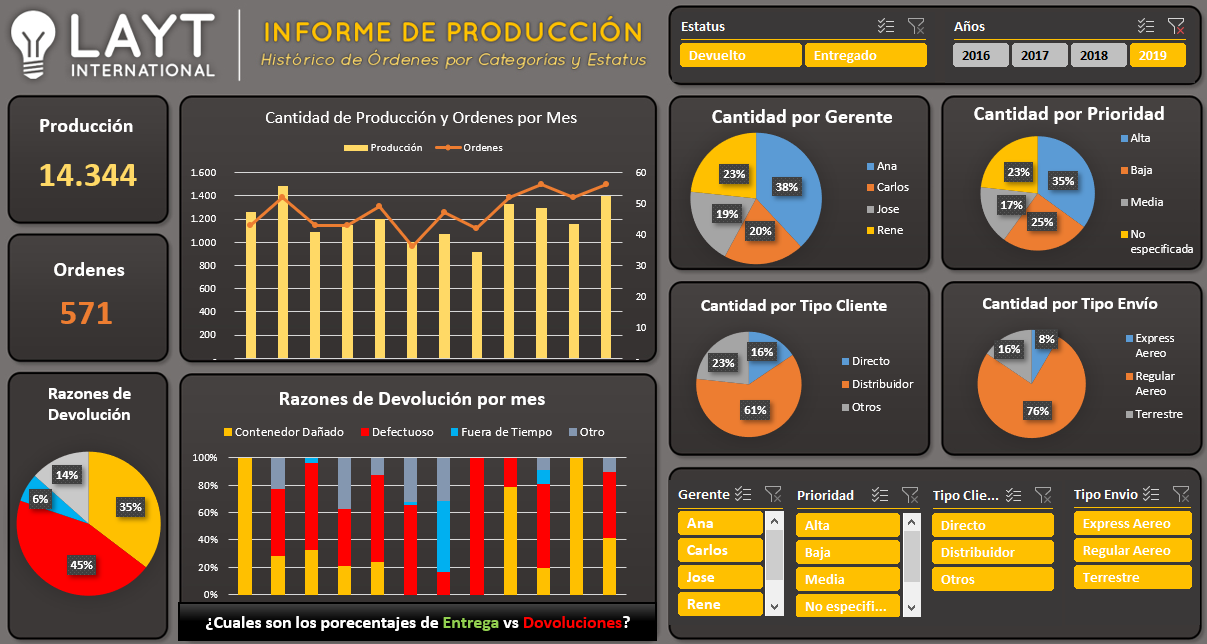

Layout of this report page (visuals, bound fields, positions):
{"tool":"powerbi","page":{"name":"Informe 2","canvas":[1280,720],"ordinal":3},"visuals":[{"type":"card","title":"Producción","fields":{"Values":["Sum(TablaTransacciones.Cantidad)"]},"box":[15.8,122.6,162,105.8],"z":0},{"type":"slicer","title":"Año","fields":{"Values":["TablaTransacciones.Fecha.Variación.Jerarquía de fechas.Año"]},"box":[982.1,14.6,298.1,83.2],"z":1000},{"type":"slicer","title":"Estatus","fields":{"Values":["TablaEstatus.Estatus"]},"box":[715.5,14.6,266.6,83.2],"z":2000},{"type":"card","title":"Ordenes","fields":{"Values":["CountNonNull(TablaTransacciones.Cantidad)"]},"box":[15.8,275.6,162,111.4],"z":3000},{"type":"lineStackedColumnComboChart","title":"Cantidad de Producción y Ordenes por Mes","fields":{"Category":["TablaTransacciones.Fecha.Variación.Jerarquía de fechas.Mes"],"Y":["Sum(TablaTransacciones.Cantidad)"],"Y2":["CountNonNull(TablaTransacciones.Cantidad)"]},"box":[193.5,114.8,497.2,283.5],"z":4000},{"type":"hundredPercentStackedColumnChart","title":"Razones de Devoluciones por Mes","fields":{"Category":["TablaTransacciones.Fecha.Variación.Jerarquía de fechas.Año","TablaTransacciones.Fecha.Variación.Jerarquía de fechas.Mes"],"Y":["Sum(TablaTransacciones.Cantidad)"],"Series":["TablaEstatus.Razon"]},"box":[193.5,415.1,473.6,262.1],"z":5000},{"type":"pieChart","title":"Cantidad por Gerente","fields":{"Category":["TablaTransacciones.Gerente"],"Y":["Sum(TablaTransacciones.Cantidad)"]},"box":[707.6,114.8,275.6,183.4],"z":6000},{"type":"pieChart","title":"Cantidad por Tipo Cliente","fields":{"Y":["Sum(TablaTransacciones.Cantidad)"],"Category":["TablaTransacciones.Tipo Cliente"]},"box":[707.6,315,275.6,205.9],"z":7000},{"type":"pieChart","title":"Cantidad por Prioridad","fields":{"Y":["Sum(TablaTransacciones.Cantidad)"],"Category":["TablaTransacciones.Prioridad"]},"box":[993.4,114.8,275.6,192.4],"z":8000},{"type":"pieChart","title":"Cantidad por Tipo Envío","fields":{"Y":["Sum(TablaTransacciones.Cantidad)"],"Category":["TablaTransacciones.Tipo Envio"]},"box":[993.4,315,275.6,195.8],"z":9000},{"type":"slicer","fields":{"Values":["TablaTransacciones.Gerente"]},"box":[712.1,531,109.1,156.4],"z":10000},{"type":"slicer","fields":{"Values":["TablaTransacciones.Prioridad"]},"box":[823.5,531,158.6,156.4],"z":11000},{"type":"slicer","fields":{"Values":["TablaTransacciones.Tipo Cliente"]},"box":[984.4,531,131.6,156.4],"z":12000},{"type":"slicer","fields":{"Values":["TablaTransacciones.Tipo Envio"]},"box":[1119.4,531,149.6,156.4],"z":13000},{"type":"pieChart","title":"Razones de Devolución","fields":{"Category":["TablaEstatus.Razon"],"Y":["Sum(TablaTransacciones.Cantidad)"]},"box":[15.8,438.8,162,259.9],"z":14000},{"type":"actionButton","box":[193.5,669.4,497.2,39.4],"z":14003}]}

Visuals, with their boxes on the page's 1280x720 design canvas (x1, y1, x2, y2). These are canvas units, not pixel positions in the 1207x644 screenshot, which may show the page scaled, cropped or inside an application window:
"Producción" card: bbox(16, 123, 178, 228)
"Año" slicer: bbox(982, 15, 1280, 98)
"Estatus" slicer: bbox(716, 15, 982, 98)
"Ordenes" card: bbox(16, 276, 178, 387)
"Cantidad de Producción y Ordenes por Mes" lineStackedColumnComboChart: bbox(194, 115, 691, 398)
"Razones de Devoluciones por Mes" hundredPercentStackedColumnChart: bbox(194, 415, 667, 677)
"Cantidad por Gerente" pieChart: bbox(708, 115, 983, 298)
"Cantidad por Tipo Cliente" pieChart: bbox(708, 315, 983, 521)
"Cantidad por Prioridad" pieChart: bbox(993, 115, 1269, 307)
"Cantidad por Tipo Envío" pieChart: bbox(993, 315, 1269, 511)
slicer - TablaTransacciones.Gerente: bbox(712, 531, 821, 687)
slicer - TablaTransacciones.Prioridad: bbox(824, 531, 982, 687)
slicer - TablaTransacciones.Tipo Cliente: bbox(984, 531, 1116, 687)
slicer - TablaTransacciones.Tipo Envio: bbox(1119, 531, 1269, 687)
"Razones de Devolución" pieChart: bbox(16, 439, 178, 699)
actionButton: bbox(194, 669, 691, 709)
